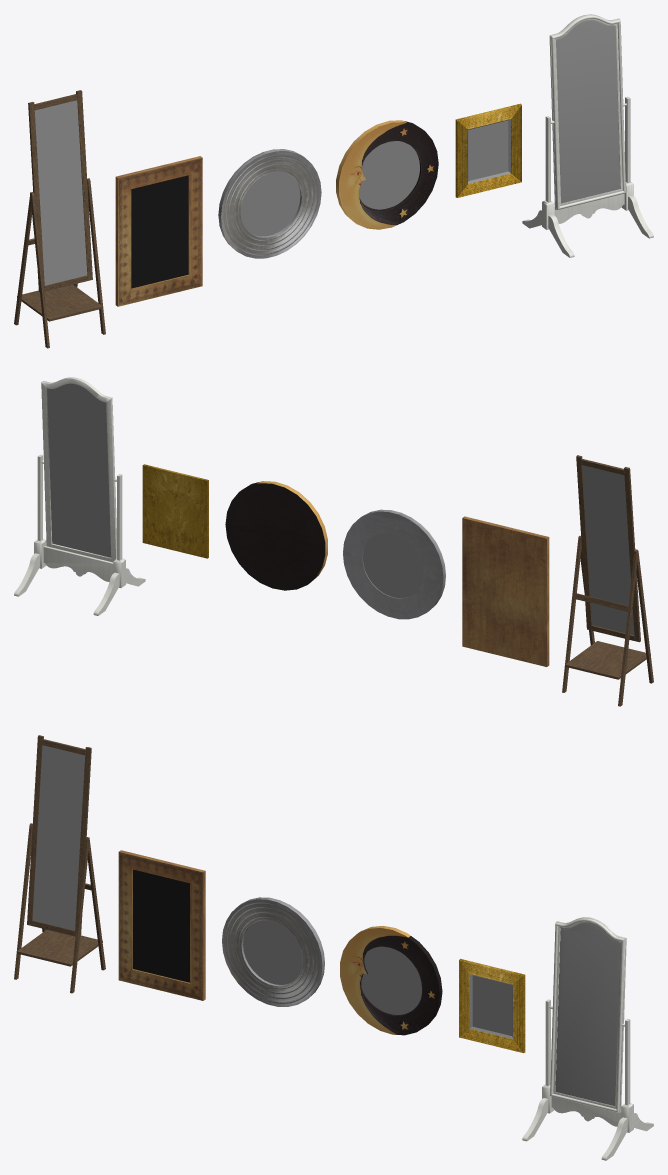
The model's file is Mirrors Pack FBX.FBX.
The picture shows the model from 3 angles, top to bottom: view 1: azimuth 30°, elevation 25°; view 2: azimuth 150°, elevation 25°; view 3: azimuth 330°, elevation 25°; orthographic projection.
Visible parts, largest first — view 1: mirror (×2), Mirror 1, mirror 2, mirror 3, mirror structure (×2), mirror 5; view 2: mirror (×2), Mirror 1, mirror 2, mirror 3, mirror structure (×2), mirror 5; view 3: mirror (×2), Mirror 1, mirror 2, mirror 3, mirror structure (×2), mirror 5.
Part boxes in pixels (x1,y1,x2,y2): mirror (×2): (28, 14, 625, 292); Mirror 1: (115, 156, 202, 306); mirror 2: (218, 149, 321, 258); mirror 3: (336, 120, 438, 229); mirror structure (×2): (14, 96, 653, 348); mirror 5: (455, 103, 521, 197); mirror (×2): (41, 377, 640, 642); Mirror 1: (462, 516, 549, 666); mirror 2: (343, 509, 445, 619); mirror 3: (225, 481, 327, 590); mirror structure (×2): (14, 454, 653, 706); mirror 5: (142, 464, 208, 558); mirror (×2): (27, 735, 626, 1112); Mirror 1: (118, 850, 205, 1000); mirror 2: (222, 897, 324, 1006); mirror 3: (340, 926, 442, 1035); mirror structure (×2): (14, 823, 653, 1160); mirror 5: (459, 958, 525, 1052).
Size of the model in its own units: 297 by 122 by 40.72.
